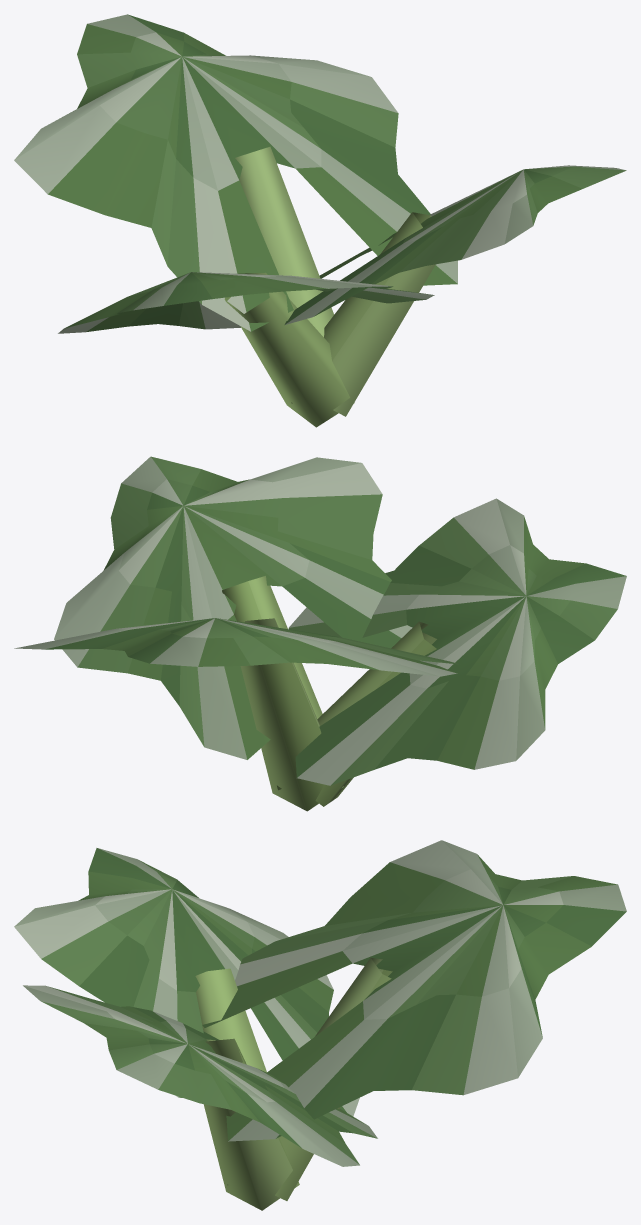
Rendered from courge_semis.glb.
3 renders of one model, top to bottom at view 1: azimuth 30°, elevation 25°; view 2: azimuth 150°, elevation 25°; view 3: azimuth 270°, elevation 25°, orthographic. The views are drawn at different scales.
Visible parts, largest first — view 1: Courge_Feuilles, Courge_Tiges; view 2: Courge_Feuilles, Courge_Tiges; view 3: Courge_Feuilles, Courge_Tiges.
Boxes of the visible parts, left/top/right/bottom form: Courge_Feuilles: left=14, top=14, right=626, bottom=333; Courge_Tiges: left=224, top=146, right=435, bottom=427; Courge_Feuilles: left=14, top=456, right=626, bottom=785; Courge_Tiges: left=222, top=576, right=436, bottom=811; Courge_Feuilles: left=14, top=840, right=626, bottom=1166; Courge_Tiges: left=195, top=957, right=392, bottom=1210.
Bounding box in the file's own units: 0.1321 × 0.0721 × 0.1393.
